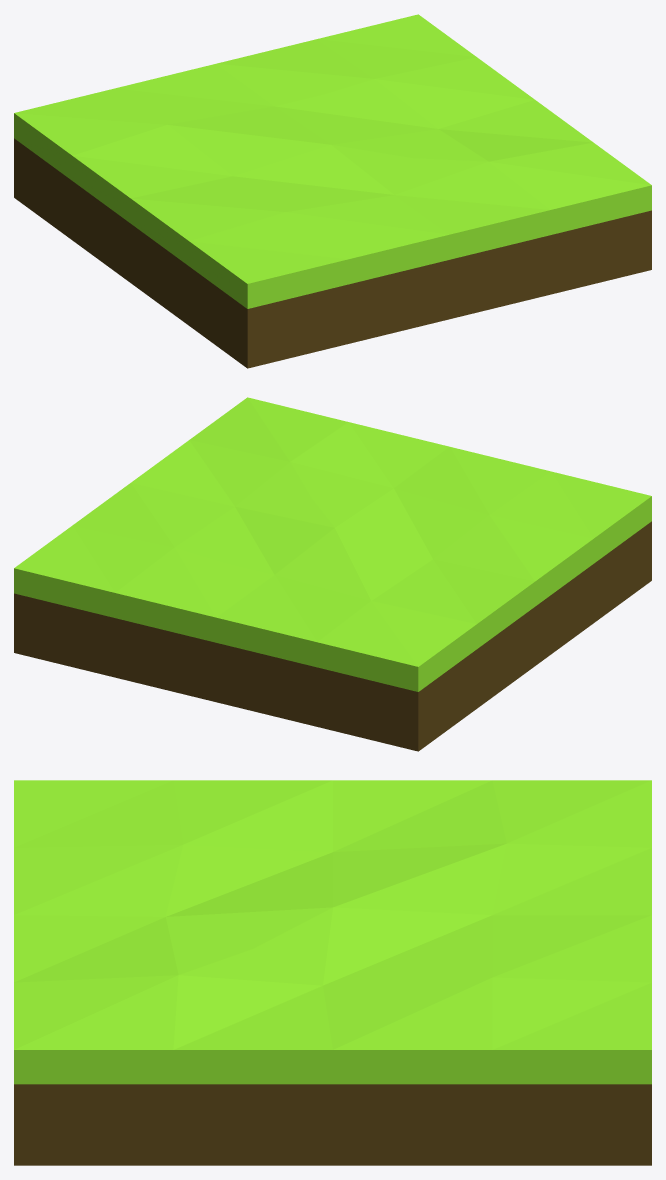
Rendered from tile_flach_tri_2.fbx.
The picture shows the model from 3 angles, top to bottom: view 1: azimuth 30°, elevation 25°; view 2: azimuth 150°, elevation 25°; view 3: azimuth 270°, elevation 25°; orthographic projection. The views are drawn at different scales.
Visible parts, largest first — view 1: Cube; view 2: Cube; view 3: Cube.
Boxes of the visible parts, x1=… form: Cube: x1=14, y1=14, x2=651, y2=368; Cube: x1=14, y1=397, x2=651, y2=751; Cube: x1=14, y1=780, x2=651, y2=1165.
Size of the model in its own units: 1000 by 211 by 1000.
Materials: 2 (1 with a texture image).
